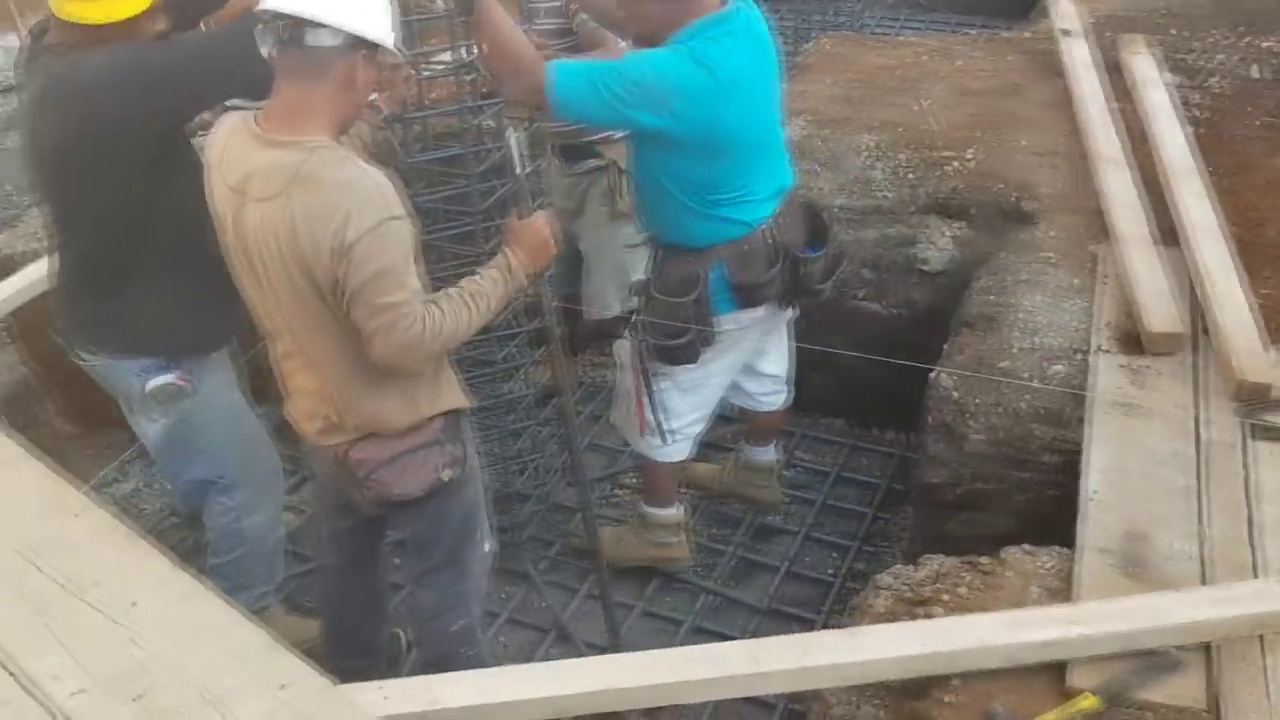helmet: (248, 1, 409, 67)
helmet-off: (30, 1, 163, 65)
helmet-on: (246, 0, 406, 153)
person: (202, 0, 554, 705), (27, 0, 321, 648), (490, 1, 807, 514), (496, 0, 662, 363)
